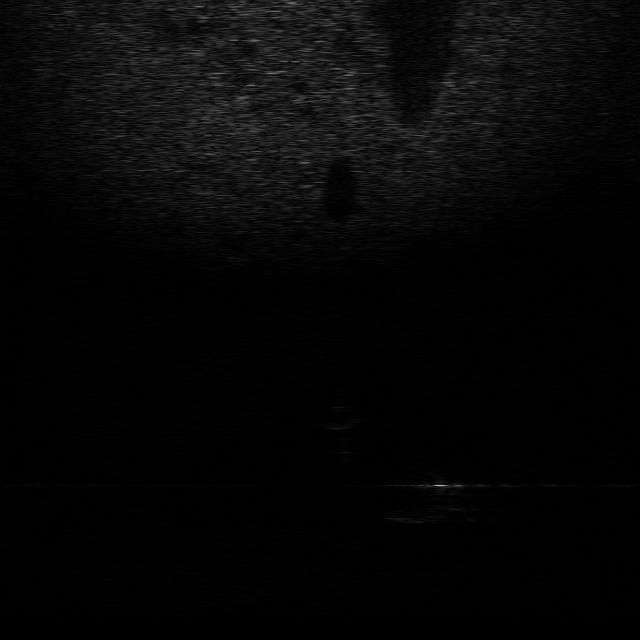ball: (314, 404, 364, 433)
tyre: (381, 469, 465, 526)
